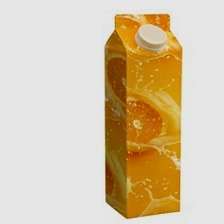carton: (99, 11, 184, 219)
